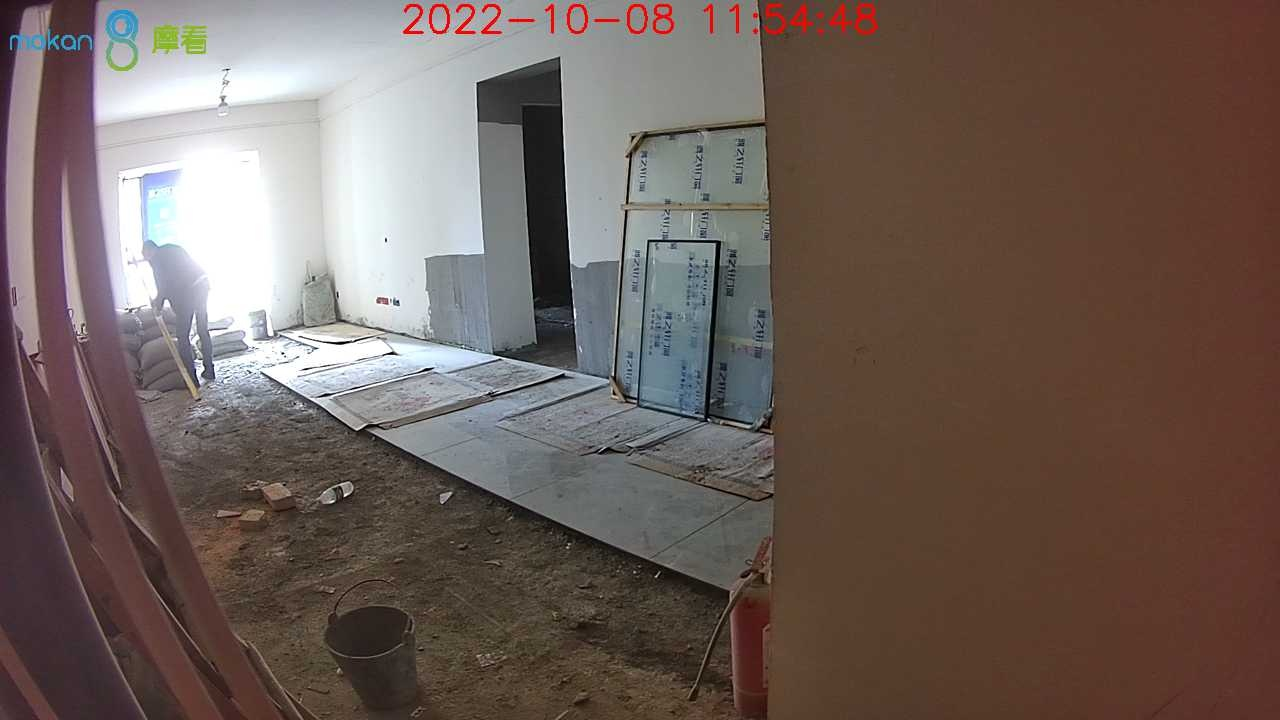people: (140, 240, 216, 379)
window: (120, 154, 264, 315)
